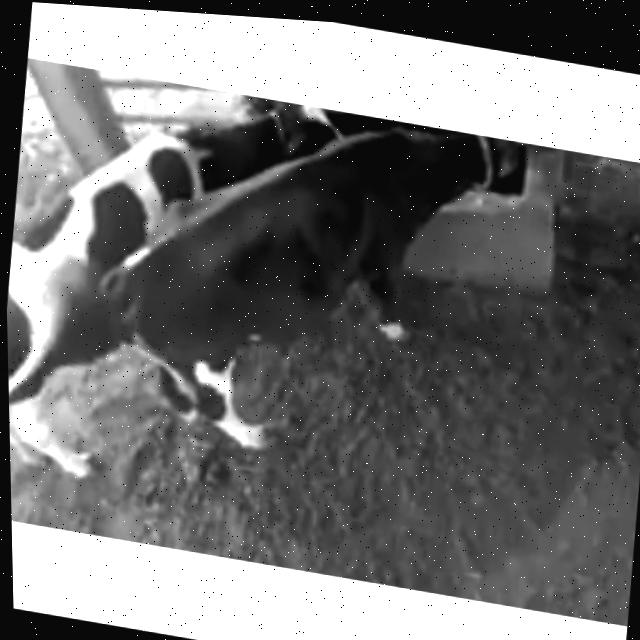drink: (189, 85, 356, 208), (391, 119, 537, 236)
